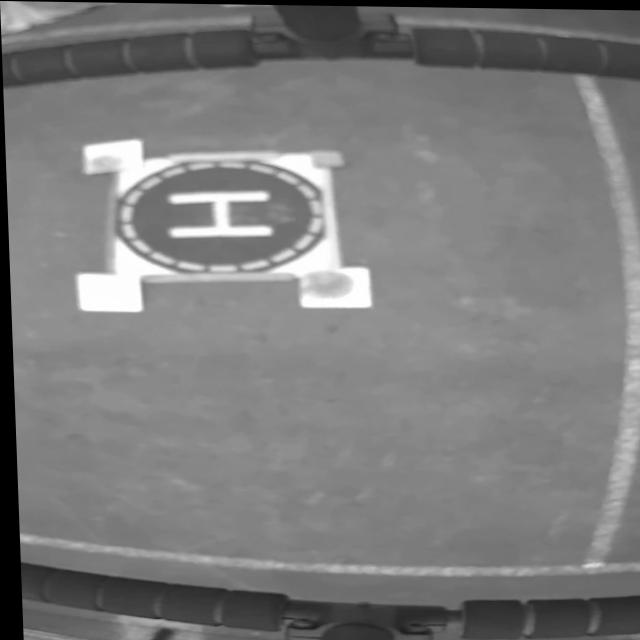Helipad: (166, 189, 271, 237)
